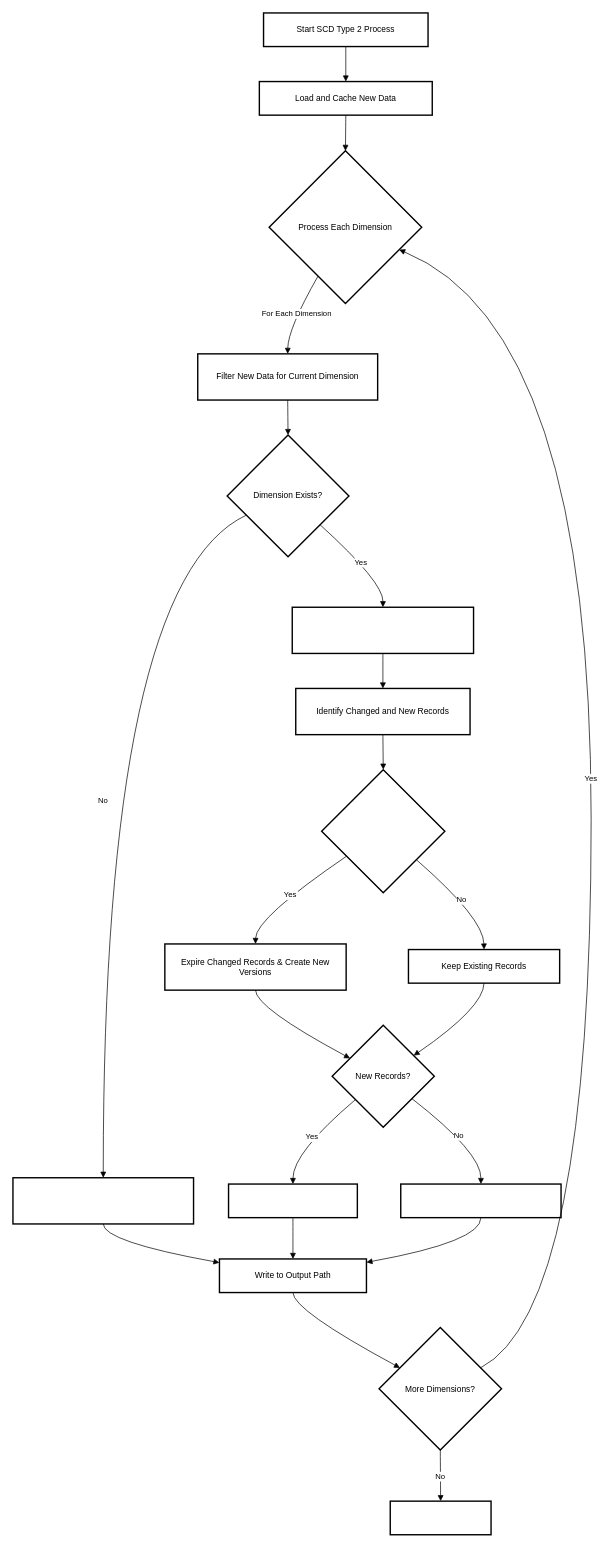
Image size: 610x1547. Some labels were removed from this diagram. Here are the shapes that lost their labels. From the top down, the centre of each, then its label:
point (382, 630): Join New Data with Current Records
point (383, 831): Changed Records?
point (103, 1200): Create New Dimension with SCD Type 2 Structure
point (292, 1200): Add New Records
point (480, 1200): Use Updated Dimension
point (440, 1517): End Process
